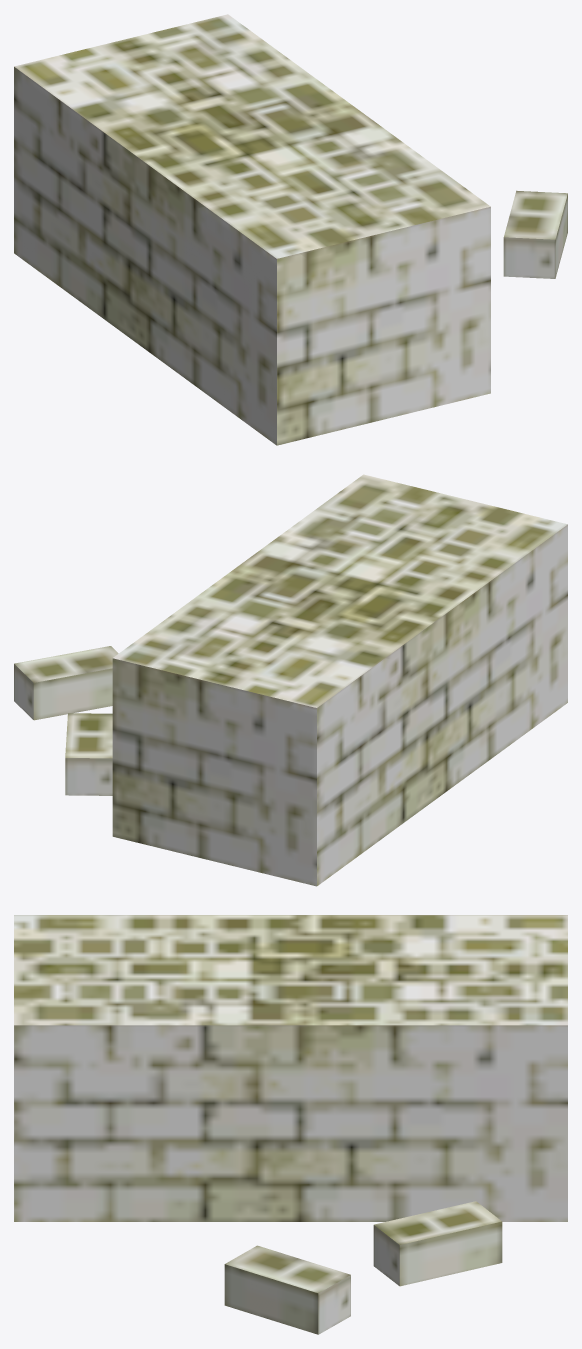
The model's file is Environment - Prop - CONSUP 05 - PMCONSUP05.glb.
The picture shows the model from 3 angles, top to bottom: view 1: azimuth 30°, elevation 25°; view 2: azimuth 150°, elevation 25°; view 3: azimuth 270°, elevation 25°; orthographic projection. The views are drawn at different scales.
Parts seen in each view (by area): view 1: PMCONSUP05; view 2: PMCONSUP05; view 3: PMCONSUP05.
Part boxes in pixels (box(x1,y1,x2,y2)): PMCONSUP05: box(14, 14, 567, 445); PMCONSUP05: box(14, 474, 567, 886); PMCONSUP05: box(14, 915, 567, 1334).
Bounding box in the file's own units: 15.95 × 6.54 × 16.67.
Materials: 1 (1 with a texture image).
